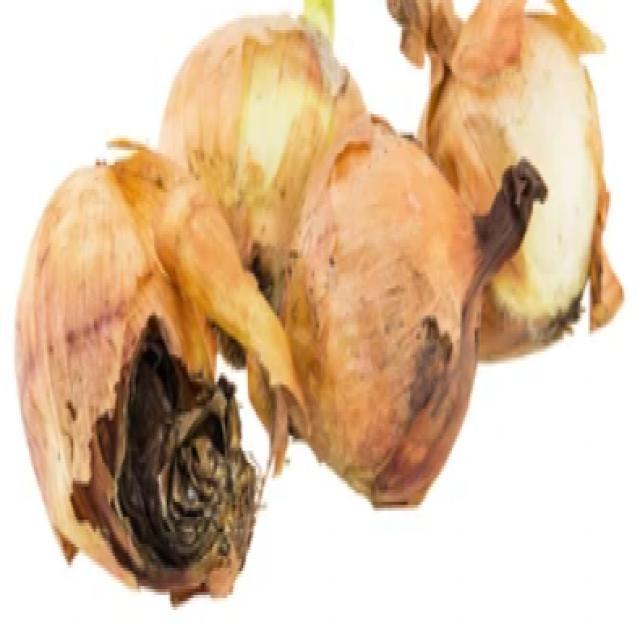rotten: (88, 318, 250, 586), (360, 255, 463, 466)
